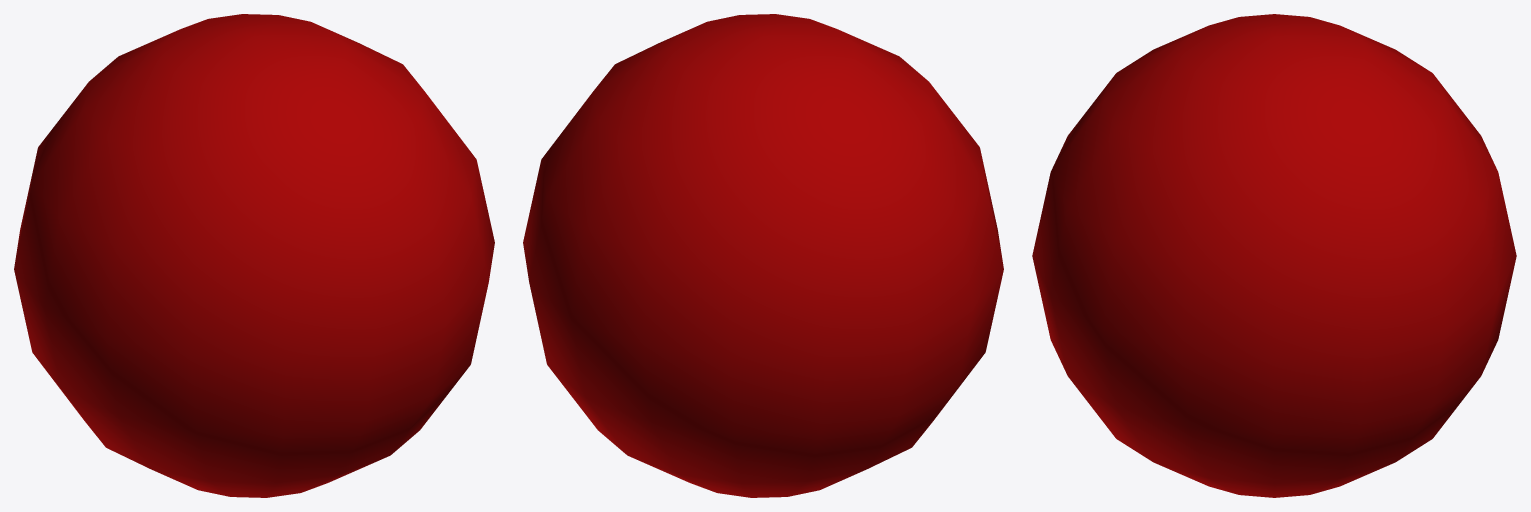
The model's file is bullet_01.obj.
3 renders of one model, left to right at view 1: azimuth 30°, elevation 25°; view 2: azimuth 150°, elevation 25°; view 3: azimuth 270°, elevation 25°, orthographic.
Parts seen in each view (by area): view 1: bullet_01; view 2: bullet_01; view 3: bullet_01.
Boxes of the visible parts, x1,y1,x2,y2 form: bullet_01: [14, 14, 494, 497]; bullet_01: [523, 14, 1003, 497]; bullet_01: [1032, 14, 1516, 497].
Bounding box in the file's own units: 22.2 × 22.2 × 22.2.
